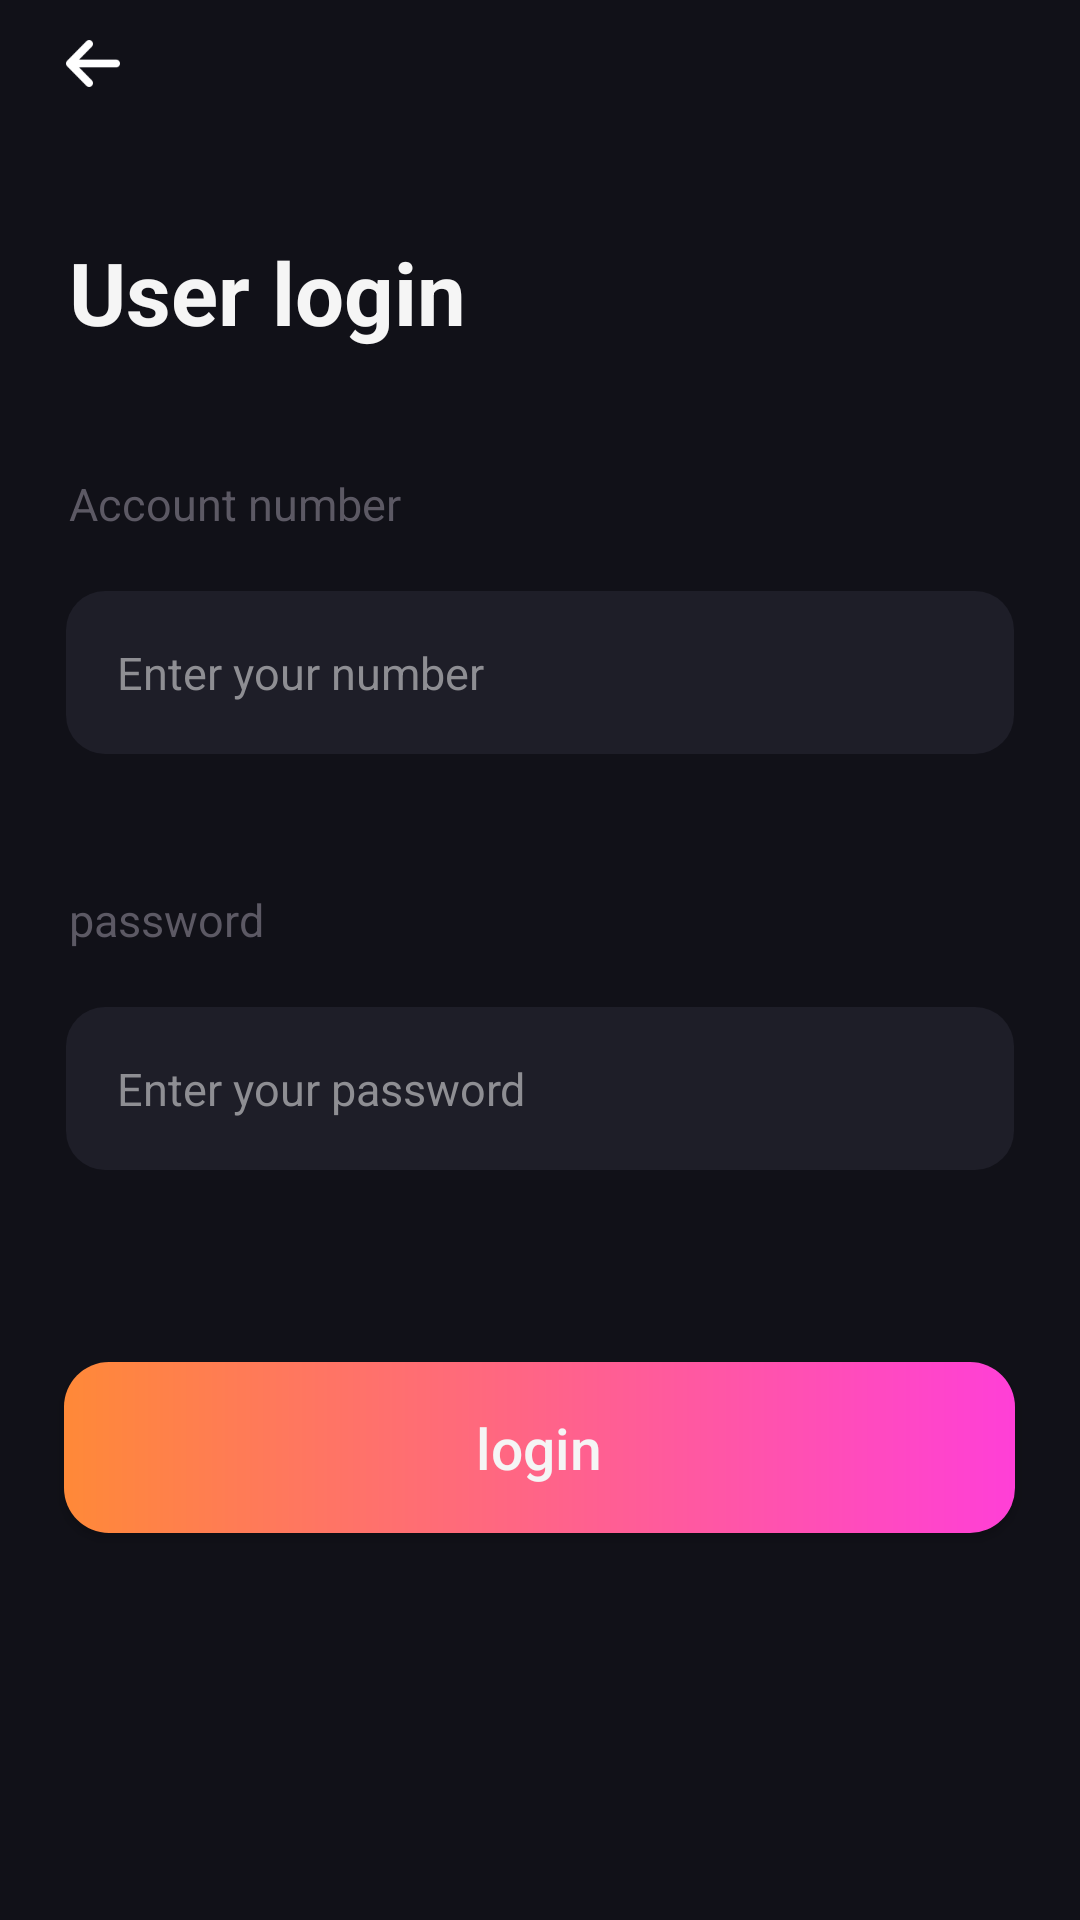

Icons on this 1080 × 1920 Android screen, each with its box as (x1, y1, x2, y2):
back up: (66, 40, 120, 87)
